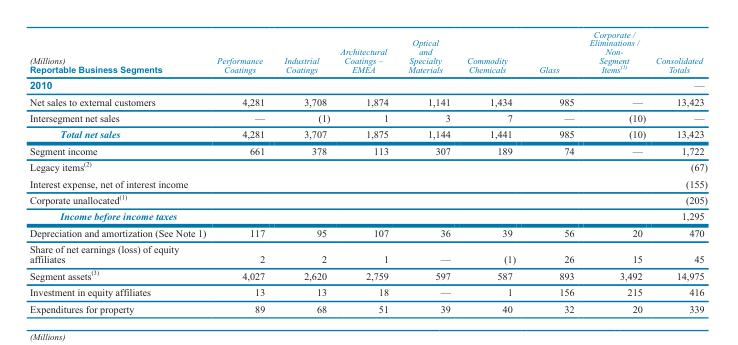table: (28, 28, 706, 313)
table column: (28, 28, 210, 313), (581, 28, 650, 313), (458, 28, 526, 313), (210, 28, 273, 313), (334, 28, 397, 313), (273, 28, 334, 313), (397, 28, 458, 313), (650, 28, 706, 313), (526, 28, 581, 313)
table column header: (28, 28, 706, 76)
table row: (28, 28, 706, 76), (28, 240, 706, 266), (28, 92, 706, 109), (28, 125, 706, 142), (28, 157, 706, 174), (28, 190, 706, 207), (28, 207, 706, 224), (28, 266, 706, 283), (28, 76, 706, 92), (28, 109, 706, 125), (28, 174, 706, 190), (28, 224, 706, 240), (28, 283, 706, 299), (28, 142, 706, 157), (28, 299, 706, 313)
